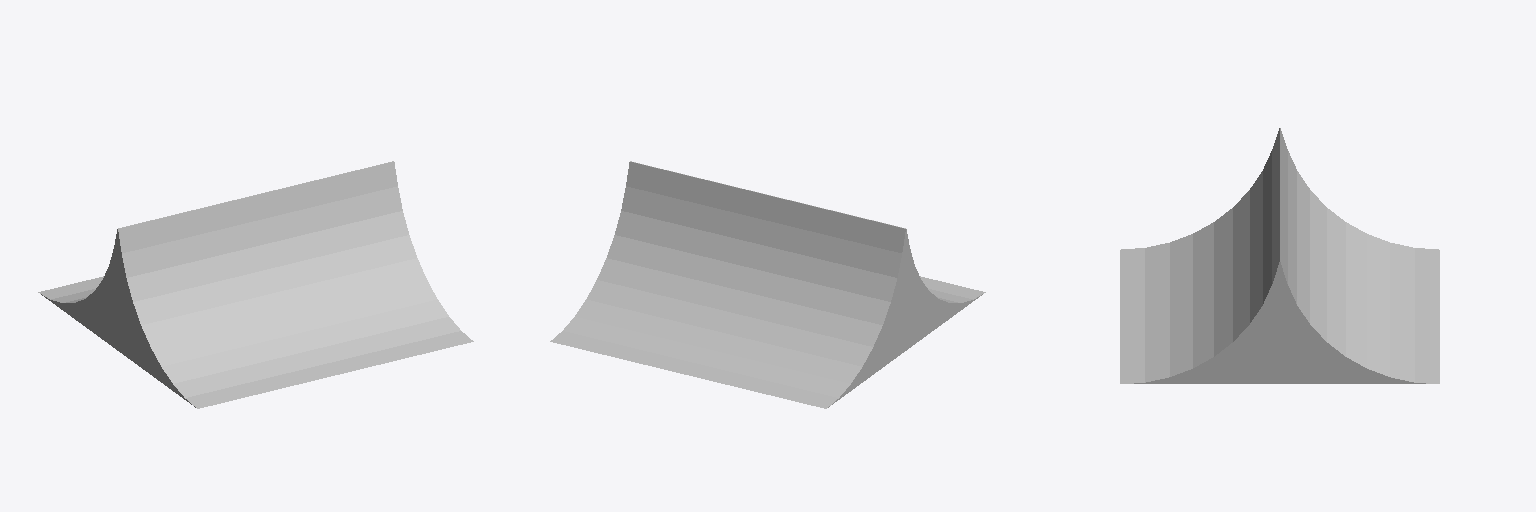
File: Quater_SML_Spine.obj
3 views of the same model, side by side, from view 1: azimuth 30°, elevation 25°; view 2: azimuth 150°, elevation 25°; view 3: azimuth 270°, elevation 25° (orthographic).
Visible parts, largest first — view 1: Quater_SML_Spine; view 2: Quater_SML_Spine; view 3: Quater_SML_Spine.
Boxes of the visible parts, x1,y1,x2,y2 form: Quater_SML_Spine: [38, 161, 473, 408]; Quater_SML_Spine: [550, 161, 985, 408]; Quater_SML_Spine: [1120, 128, 1439, 383].
Size of the model in its own units: 10 by 4.22 by 10.